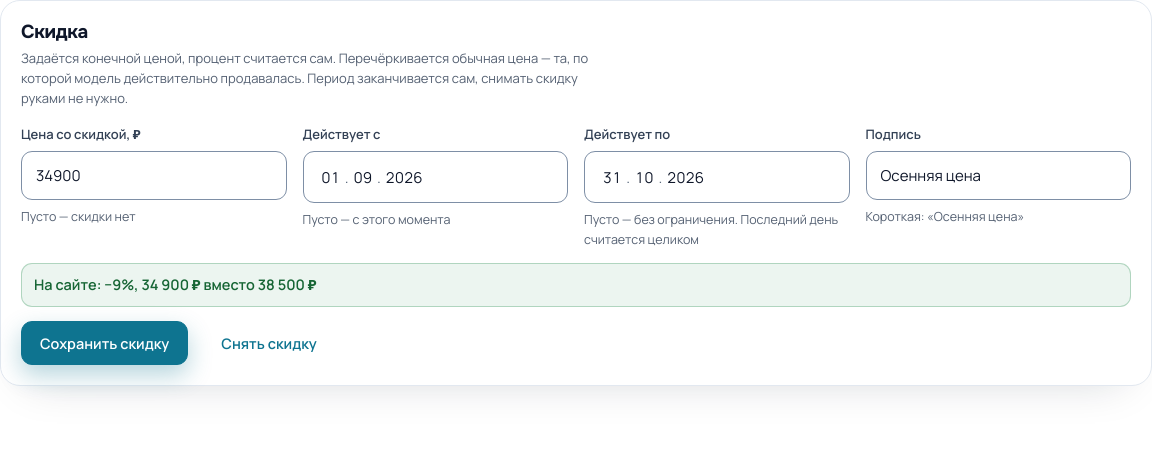
Test: Форма скидки › отказ сервера объясняется
This screenshot has width=1152, height=474.
Click the button "Сохранить скидку" at (105, 343), box [21,321,188,365]
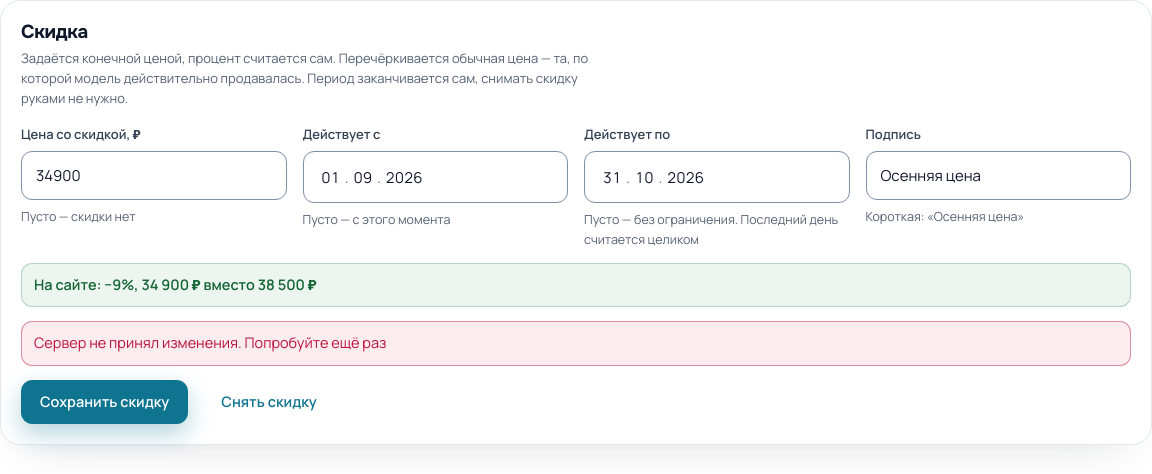
Now the message "Сервер не принял изменения. Попробуйте ещё раз" is shown, box [21,321,1131,366]
